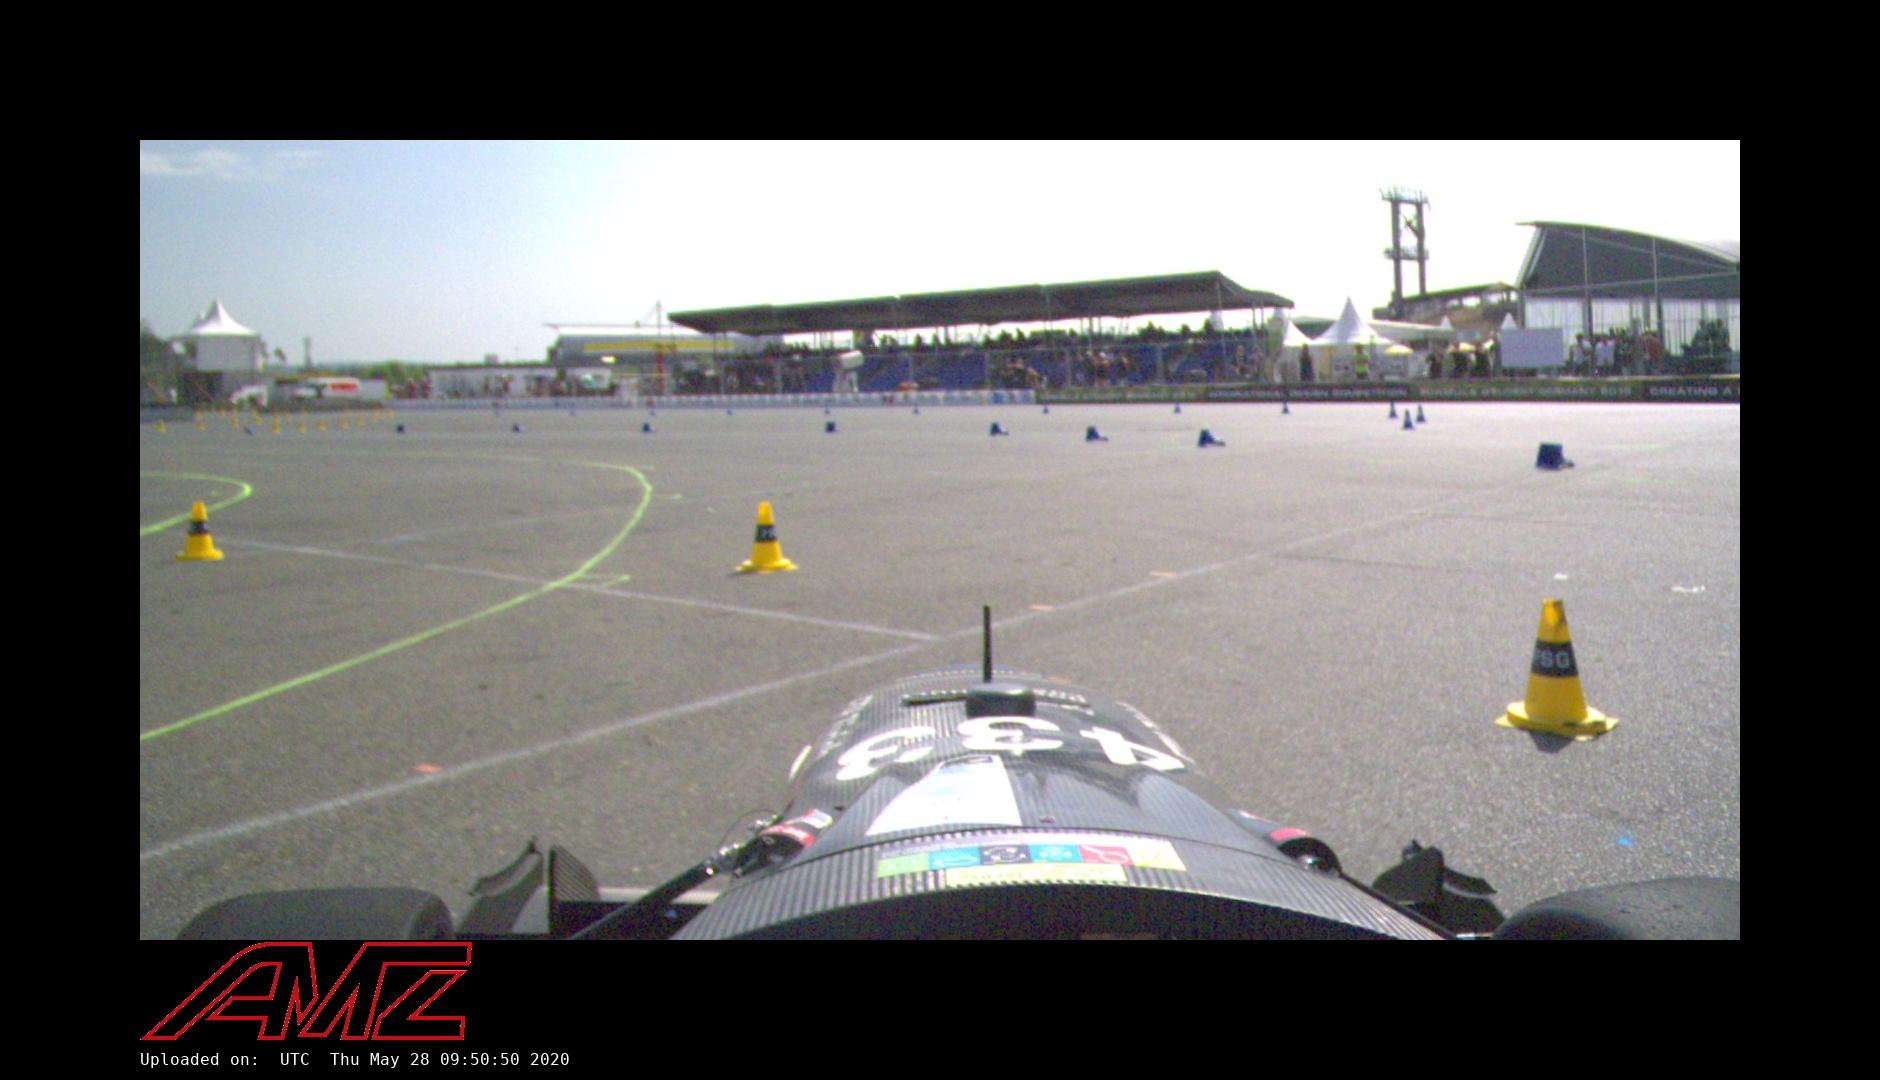blue_cone: (1533, 442, 1577, 472), (1194, 429, 1227, 448), (1085, 425, 1110, 444), (1400, 408, 1416, 430), (989, 422, 1010, 438), (1387, 398, 1398, 419), (640, 422, 659, 433), (1416, 406, 1427, 424), (511, 424, 526, 431)
yellow_cone: (1498, 597, 1618, 744), (736, 499, 798, 576), (173, 501, 225, 565)
